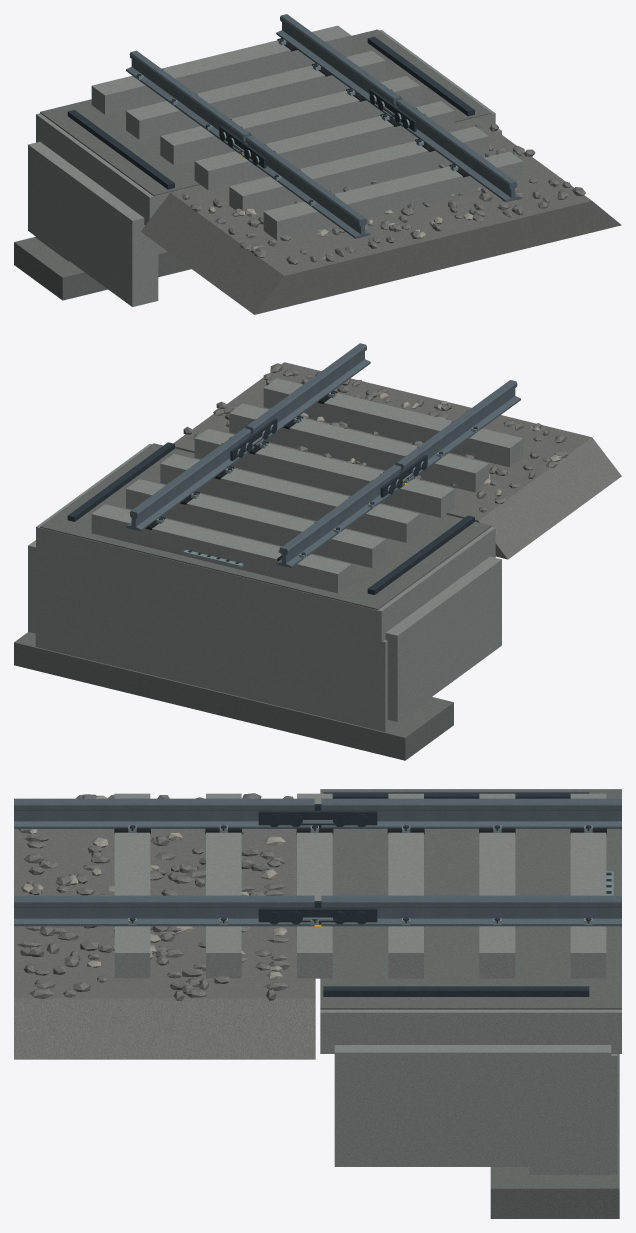
3 views of the same model, one above another, from view 1: azimuth 30°, elevation 25°; view 2: azimuth 150°, elevation 25°; view 3: azimuth 270°, elevation 25° (orthographic). The views are drawn at different scales.
Parts seen in each view (by area): view 1: VIS_Concrete_Sleepers_concrete, VIS_Ballast_Transition_ballast, VIS_Abutment_Wingwall_concrete, VIS_Rail_Running_Steel_rail_steel, VIS_Deck_Screed_concrete_worn, VIS_Deck_Structure_concrete, VIS_Ballast_Stones_ballast, VIS_Abutment_Foundation_concrete_worn, VIS_Drainage_Gravel_Edge_dark_steel, VIS_Joint_Fishplate_dark_steel, VIS_Ballast_Stones_ballast_light, VIS_Rail_Pads_rubber (+2 smaller); view 2: VIS_Concrete_Sleepers_concrete, VIS_Abutment_Backwall_concrete, VIS_Ballast_Transition_ballast, VIS_Deck_Structure_concrete, VIS_Rail_Running_Steel_rail_steel, VIS_Abutment_Wingwall_concrete, VIS_Abutment_Foundation_concrete_worn, VIS_Deck_Screed_concrete_worn, VIS_Ballast_Stones_ballast, VIS_Drainage_Gravel_Edge_dark_steel, VIS_Joint_Fishplate_dark_steel; view 3: VIS_Ballast_Transition_ballast, VIS_Rail_Running_Steel_rail_steel, VIS_Abutment_Wingwall_concrete, VIS_Deck_Screed_concrete_worn, VIS_Concrete_Sleepers_concrete, VIS_Deck_Structure_concrete, VIS_Ballast_Stones_ballast, VIS_Abutment_Foundation_concrete_worn, VIS_Drainage_Gravel_Edge_dark_steel, VIS_Joint_Fishplate_dark_steel, VIS_Ballast_Stones_ballast_light, VIS_Abutment_Backwall_concrete (+3 smaller).
Part boxes in pixels (x1,y1,x2,y2): VIS_Concrete_Sleepers_concrete: (91,25,523,240); VIS_Ballast_Transition_ballast: (141,117,621,314); VIS_Abutment_Wingwall_concrete: (28,128,501,306); VIS_Rail_Running_Steel_rail_steel: (126,14,520,238); VIS_Deck_Screed_concrete_worn: (40,29,491,196); VIS_Deck_Structure_concrete: (36,30,495,225); VIS_Ballast_Stones_ballast: (182,124,585,264); VIS_Abutment_Foundation_concrete_worn: (14,237,191,300); VIS_Drainage_Gravel_Edge_dark_steel: (67,36,474,189); VIS_Joint_Fishplate_dark_steel: (219,89,416,168); VIS_Ballast_Stones_ballast_light: (208,146,516,259); VIS_Rail_Pads_rubber: (277,38,469,177); VIS_Concrete_Sleepers_concrete: (91,378,523,593); VIS_Abutment_Backwall_concrete: (35,557,418,731); VIS_Ballast_Transition_ballast: (173,362,621,559); VIS_Deck_Structure_concrete: (36,444,495,642); VIS_Rail_Running_Steel_rail_steel: (126,343,520,567); VIS_Abutment_Wingwall_concrete: (28,540,501,721); VIS_Abutment_Foundation_concrete_worn: (14,632,453,760); VIS_Deck_Screed_concrete_worn: (40,443,491,609); VIS_Ballast_Stones_ballast: (183,363,569,512); VIS_Drainage_Gravel_Edge_dark_steel: (67,442,474,594); VIS_Joint_Fishplate_dark_steel: (230,418,427,497); VIS_Ballast_Transition_ballast: (14,829,315,1059); VIS_Rail_Running_Steel_rail_steel: (14,798,621,926); VIS_Abutment_Wingwall_concrete: (334,1045,611,1166); VIS_Deck_Screed_concrete_worn: (320,789,621,1009); VIS_Concrete_Sleepers_concrete: (114,793,606,978); VIS_Deck_Structure_concrete: (320,789,621,1053); VIS_Ballast_Stones_ballast: (17,793,293,1001); VIS_Abutment_Foundation_concrete_worn: (490,1054,619,1218); VIS_Drainage_Gravel_Edge_dark_steel: (323,792,589,996); VIS_Joint_Fishplate_dark_steel: (258,804,377,922); VIS_Ballast_Stones_ballast_light: (21,795,287,979); VIS_Abutment_Backwall_concrete: (529,1054,617,1174).
Bounding box in the file's own units: 3.94 × 1.77 × 4.
9 materials, 9 textured.
